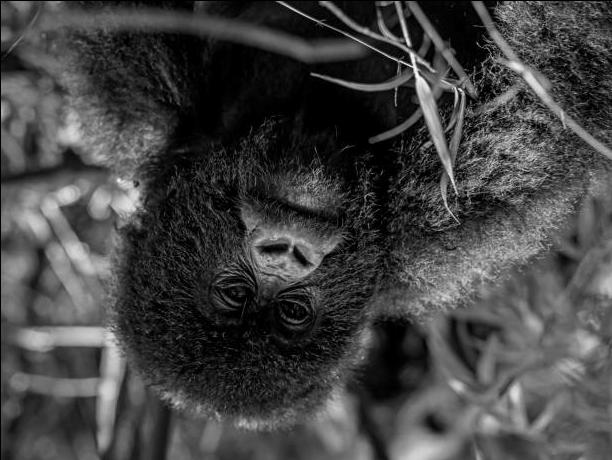goriile_montagne: (44, 21, 580, 458)
